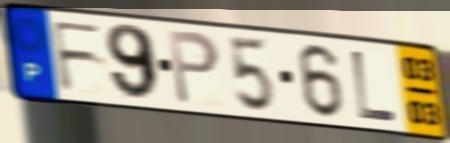5: (227, 33, 277, 114)
6: (296, 41, 345, 121)
9: (105, 22, 163, 105)
F: (48, 18, 106, 94)
L: (349, 48, 400, 125)
P: (166, 27, 223, 108)
